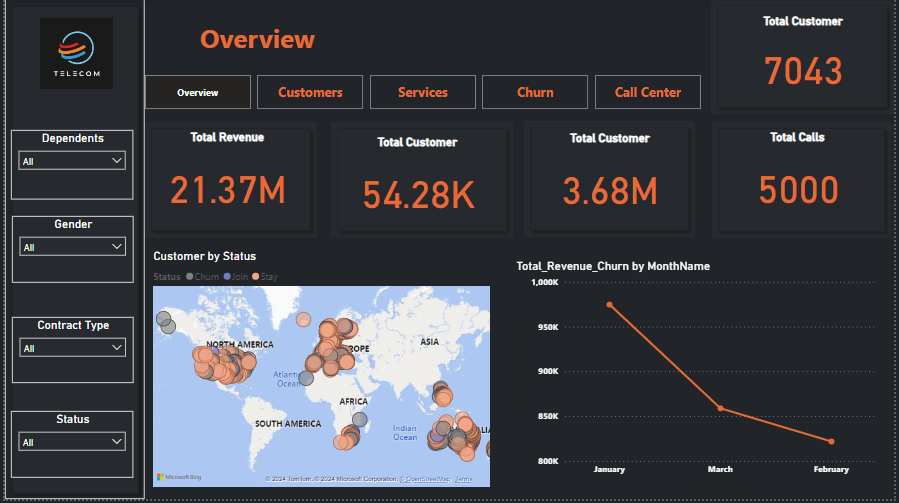

The page's visual inventory and layout, read from the dashboard file:
{"tool":"powerbi","page":{"name":"Overview","canvas":[1280,720],"ordinal":0},"visuals":[{"type":"shape","box":[0,0,200.9,719.8],"z":0},{"type":"slicer","title":"Dependents","fields":{"Values":["Dim_Customers.Dependents"]},"box":[8.3,188.6,176.2,100.5],"z":1000},{"type":"slicer","title":"Gender ","fields":{"Values":["Dim_Customers.Gender"]},"box":[9.6,312.4,174.8,96.3],"z":2000},{"type":"slicer","title":"Contract Type","fields":{"Values":["Dim_Contracts.Contract_Type"]},"box":[9.6,458.3,174.8,95],"z":3000},{"type":"image","box":[31.4,22.3,142.7,112.6],"z":4000},{"type":"textbox","box":[200.9,26.2,323.4,75.7],"z":5000},{"type":"pageNavigator","box":[200.9,110.1,802.4,49.5],"z":6000},{"type":"shape","box":[1017.6,176.9,258,166.7],"z":7000},{"type":"shape","box":[201.4,177.1,247.1,165.7],"z":8000},{"type":"shape","box":[747.4,176.2,246.4,166.5],"z":9000},{"type":"shape","box":[470,176.7,261.8,166.3],"z":10000},{"type":"card","title":"Total Customer","fields":{"Values":["Measure.Count_Of_customer"]},"box":[1042.9,12.9,207.1,138.6],"z":11000},{"type":"card","title":"Total Revenue","fields":{"Values":["Measure.Total_Revenue"]},"box":[209.2,188.6,223,140.4],"z":12000},{"type":"card","title":"Total Customer","fields":{"Values":["Measure.Total_Revenue_Churn"]},"box":[766.8,189.9,207.3,139.2],"z":13000},{"type":"card","title":"Total Calls","fields":{"Values":["Measure.Total Calls"]},"box":[1032.6,189.2,217.6,140.1],"z":14000},{"type":"map","title":" Customer by Status","fields":{"Category":["Dim_Customers.Customer_Key"],"Size":["CountNonNull(Dim_Customers.Customer_Key)"],"Series":["Fact_TelecomChurn.Is Churn"]},"box":[209.2,360.6,494.1,348.2],"z":15000},{"type":"lineChart","fields":{"Y":["Measure.Total_Revenue_Churn"],"Category":["Dim_Date.MonthName"]},"box":[731.8,374.4,527.6,333.8],"z":16000},{"type":"shape","box":[1017.1,0,262.9,165.7],"z":17000},{"type":"card","title":"Total Customer","fields":{"Values":["Measure.Total_Revenue_Join"]},"box":[485.7,195.7,217.1,138.6],"z":18000},{"type":"card","title":"Total Customer","fields":{"Values":["Measure.Count_Of_Customer"]},"box":[1040.5,22,216.1,129.4],"z":19000},{"type":"slicer","title":"Status","fields":{"Values":["Fact_TelecomChurn.Status"]},"box":[8.3,593.2,176.2,96.3],"z":20000}]}

Visuals, with their boxes in screenshot pixels (x1, y1, x2, y2), scaled from the page's 1280x720 canvas onto the 899x503 screenshot:
shape: 0, 0, 141, 502
"Dependents" slicer: 6, 132, 130, 202
"Gender " slicer: 7, 218, 130, 286
"Contract Type" slicer: 7, 320, 130, 387
image: 22, 16, 122, 94
textbox: 141, 18, 368, 71
pageNavigator: 141, 77, 705, 111
shape: 715, 124, 896, 240
shape: 141, 124, 315, 239
shape: 525, 123, 698, 239
shape: 330, 123, 514, 240
"Total Customer" card: 732, 9, 878, 106
"Total Revenue" card: 147, 132, 304, 230
"Total Customer" card: 539, 133, 684, 230
"Total Calls" card: 725, 132, 878, 230
" Customer by Status" map: 147, 252, 494, 495
lineChart - Measure.Total_Revenue_Churn x Dim_Date.MonthName: 514, 262, 885, 495
shape: 714, 0, 898, 116
"Total Customer" card: 341, 137, 494, 234
"Total Customer" card: 731, 15, 883, 106
"Status" slicer: 6, 414, 130, 482
